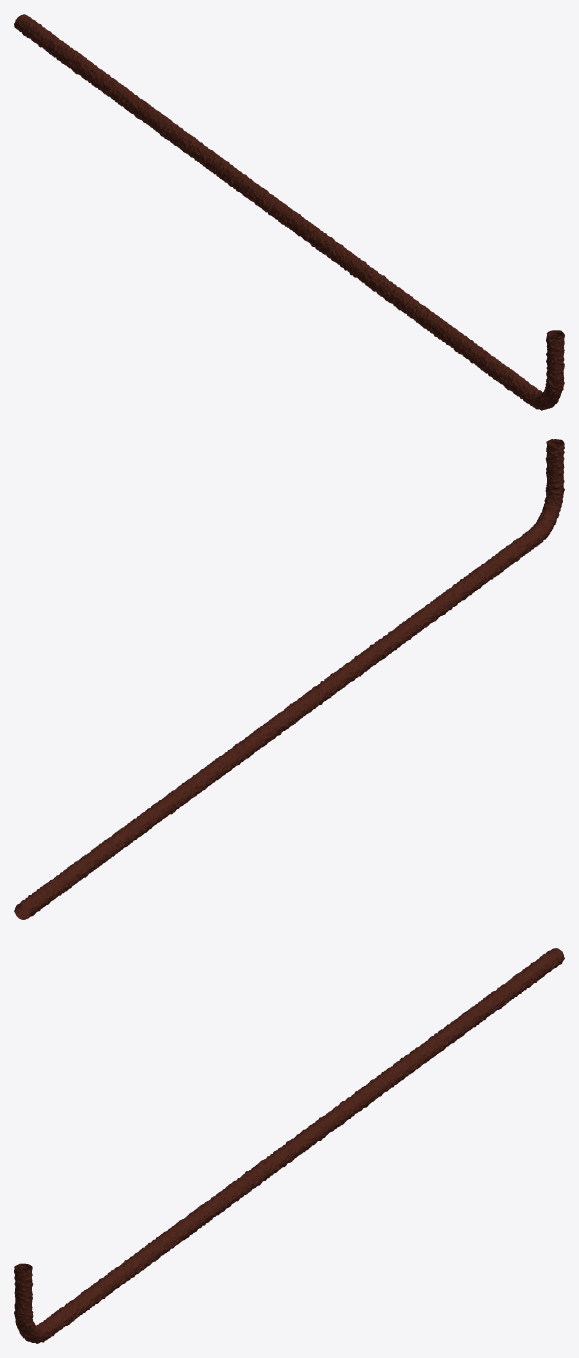
The model's file is cave.fbx.
The picture shows the model from 3 angles, top to bottom: view 1: azimuth 30°, elevation 25°; view 2: azimuth 150°, elevation 25°; view 3: azimuth 330°, elevation 25°; orthographic projection.
Parts seen in each view (by area): view 1: Cave; view 2: Cave; view 3: Cave.
Part boxes in pixels (x1,y1,x2,y2): Cave: (14,14,564,410); Cave: (14,439,564,919); Cave: (14,948,564,1343).
Size of the model in its own units: 146 by 720 by 7978.
